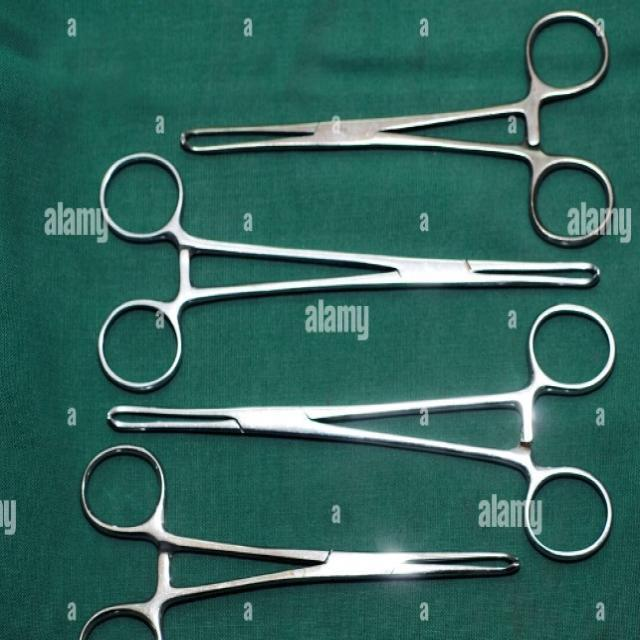Allis Forceps: (104, 300, 622, 568), (94, 148, 610, 392), (177, 8, 616, 250), (51, 442, 526, 640)
